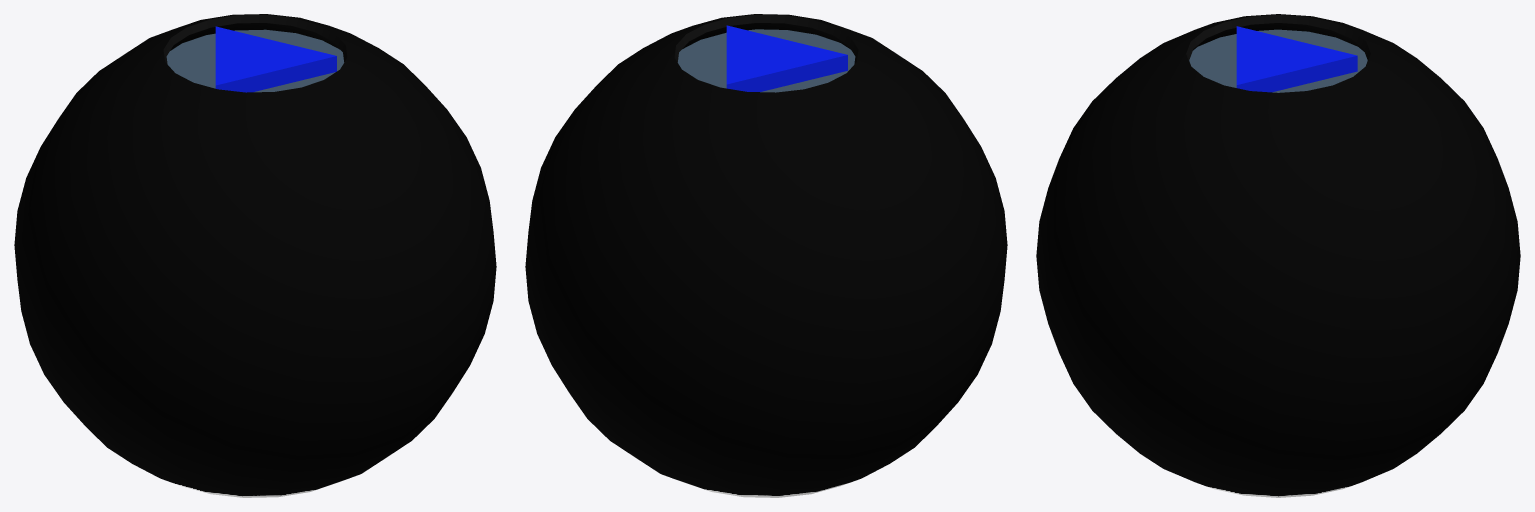
The model's file is magic ball.fbx.
3 renders of one model, left to right at view 1: azimuth 30°, elevation 25°; view 2: azimuth 150°, elevation 25°; view 3: azimuth 270°, elevation 25°, orthographic.
Parts seen in each view (by area): view 1: BallGlass, Triangle; view 2: BallGlass, Triangle; view 3: BallGlass, Triangle.
Boxes of the visible parts, x1,y1,x2,y2 form: BallGlass: (14,14,496,497); Triangle: (215,26,336,92); BallGlass: (525,14,1007,497); Triangle: (726,25,847,91); BallGlass: (1036,14,1520,497); Triangle: (1236,26,1357,92).
Size of the model in its own units: 0.6 by 0.5763 by 0.6.
